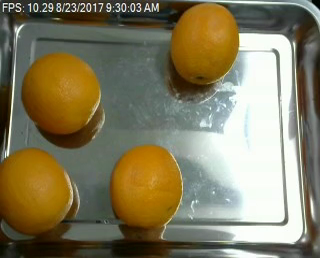Orange: (21, 51, 102, 134), (1, 147, 73, 234), (110, 144, 183, 227), (169, 2, 238, 84)
